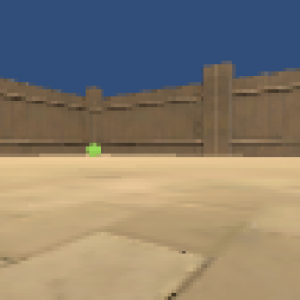goodGoal: (84, 141, 103, 158)
